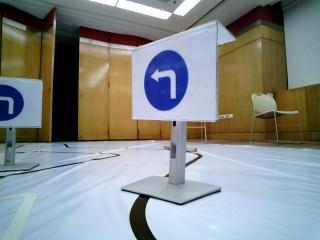left: (132, 45, 218, 113)
